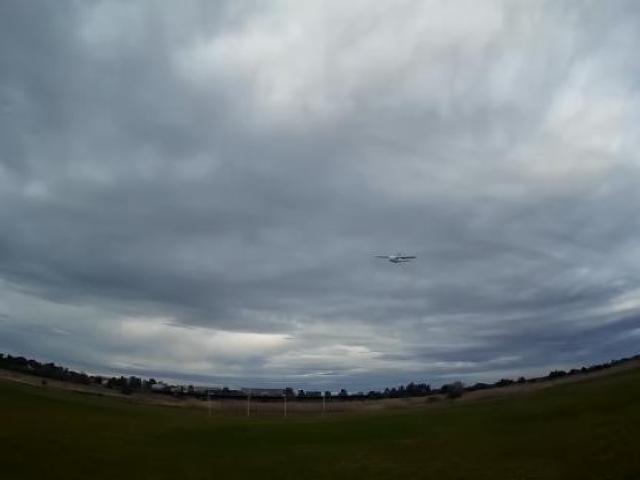uav: (374, 250, 418, 266)
